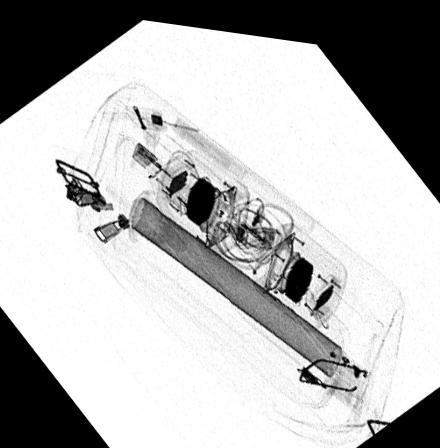Lighter: (130, 140, 206, 213)
